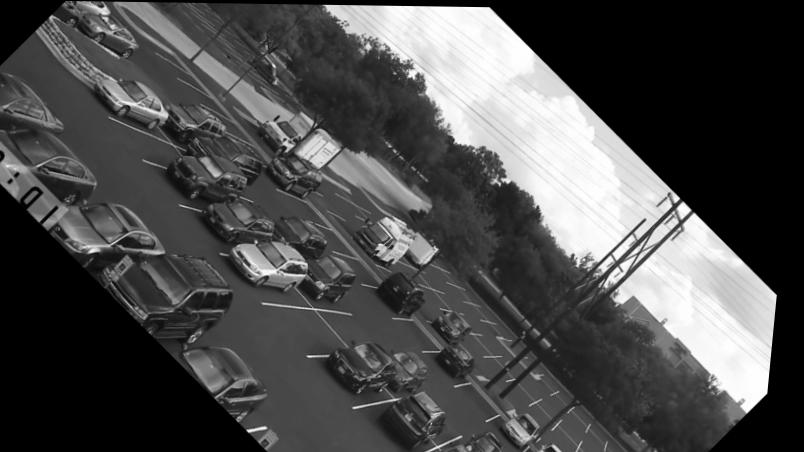empty: (267, 300, 353, 350), (111, 121, 183, 163), (256, 420, 328, 452), (161, 52, 212, 95), (459, 379, 510, 422), (283, 191, 329, 223), (182, 82, 227, 114), (319, 222, 361, 255), (338, 312, 389, 339), (440, 395, 475, 429), (401, 320, 444, 346), (219, 113, 254, 142), (348, 253, 383, 281), (342, 195, 379, 221), (556, 421, 587, 452), (511, 379, 545, 405), (535, 401, 565, 429), (249, 184, 281, 210), (487, 354, 521, 378), (544, 393, 570, 422), (502, 353, 533, 377), (567, 413, 592, 442), (555, 387, 584, 412), (424, 284, 454, 307), (404, 261, 435, 283), (524, 375, 552, 398), (484, 332, 512, 353), (425, 267, 453, 288), (474, 333, 500, 355), (577, 403, 599, 429), (444, 289, 470, 309), (543, 373, 569, 393), (467, 312, 494, 331), (594, 422, 616, 444), (490, 320, 521, 335), (439, 264, 464, 282), (587, 435, 611, 452), (470, 302, 498, 316), (455, 284, 480, 299), (427, 293, 442, 315), (479, 355, 494, 372), (613, 441, 628, 452), (582, 444, 595, 452)
occupied: (95, 257, 238, 339), (173, 344, 285, 414), (35, 204, 173, 258), (0, 128, 100, 200), (231, 237, 313, 296), (380, 389, 455, 448), (167, 152, 250, 205), (328, 340, 405, 392), (94, 78, 170, 129), (0, 73, 63, 130), (265, 144, 325, 199), (201, 200, 278, 242), (356, 214, 420, 264), (75, 11, 138, 58), (203, 133, 265, 180), (373, 270, 431, 318), (278, 214, 335, 259), (309, 254, 361, 303), (167, 103, 228, 141), (394, 350, 434, 392), (439, 341, 482, 378), (437, 307, 478, 343), (508, 411, 547, 446), (51, 1, 83, 28), (479, 430, 510, 452), (448, 438, 484, 452), (543, 442, 572, 452)
